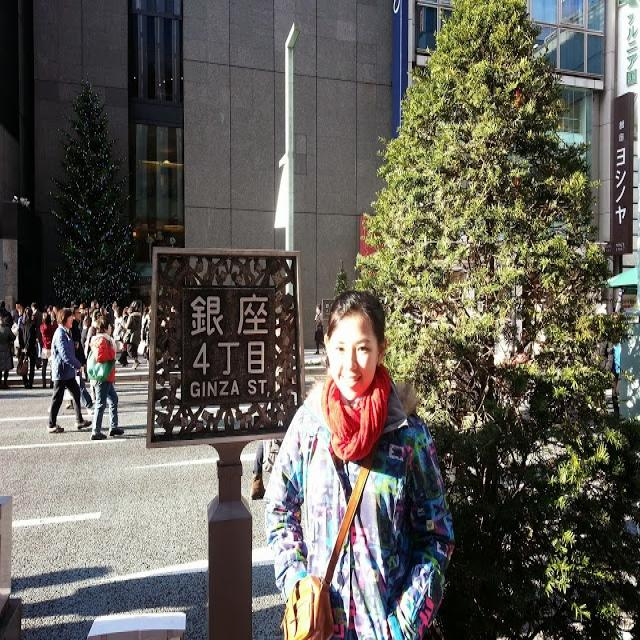body: (260, 285, 461, 639), (44, 308, 92, 433), (86, 314, 125, 442), (65, 302, 95, 410), (609, 309, 632, 428), (244, 438, 281, 502), (15, 305, 38, 391), (119, 304, 145, 372), (39, 311, 59, 389), (62, 423, 147, 441), (0, 316, 16, 389), (84, 306, 105, 358), (587, 337, 614, 375), (117, 304, 132, 368), (10, 300, 25, 357), (311, 301, 326, 356), (143, 304, 151, 361), (111, 300, 121, 343), (30, 300, 44, 328), (78, 299, 101, 316), (14, 305, 25, 327), (45, 304, 57, 320), (0, 300, 8, 316)
